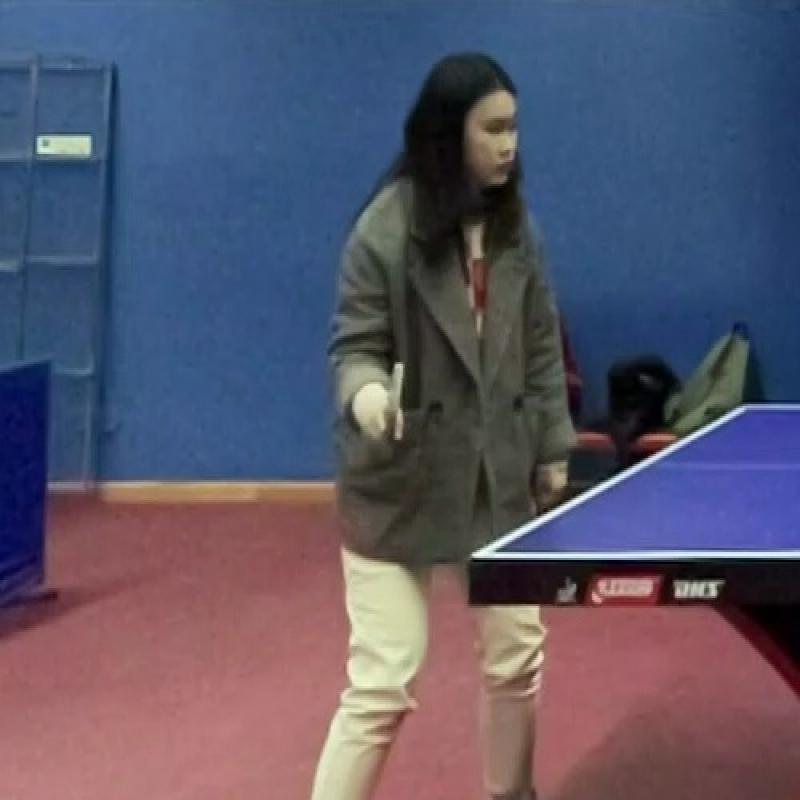bats: (356, 350, 434, 456)
